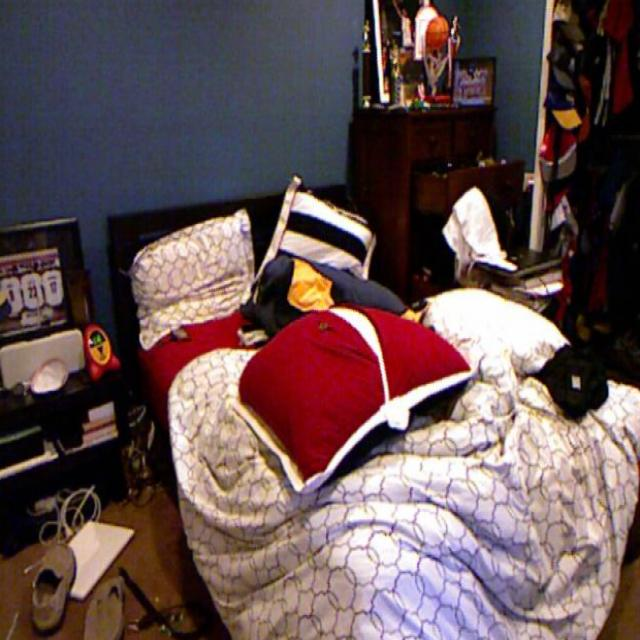bed: (125, 226, 630, 570)
beside table: (362, 81, 542, 243), (5, 314, 125, 550)
